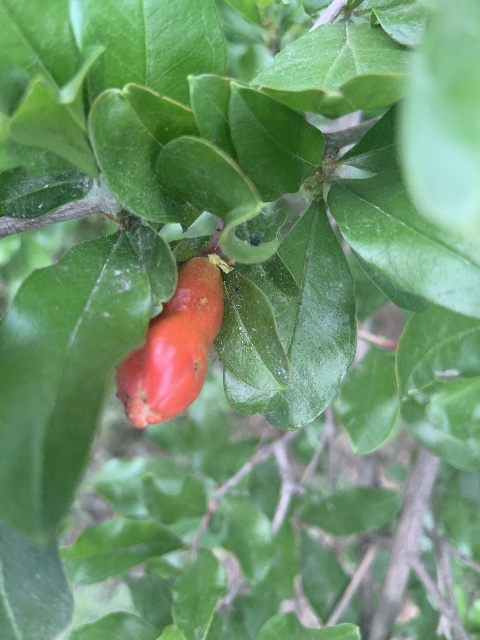bud: (115, 258, 223, 429)
